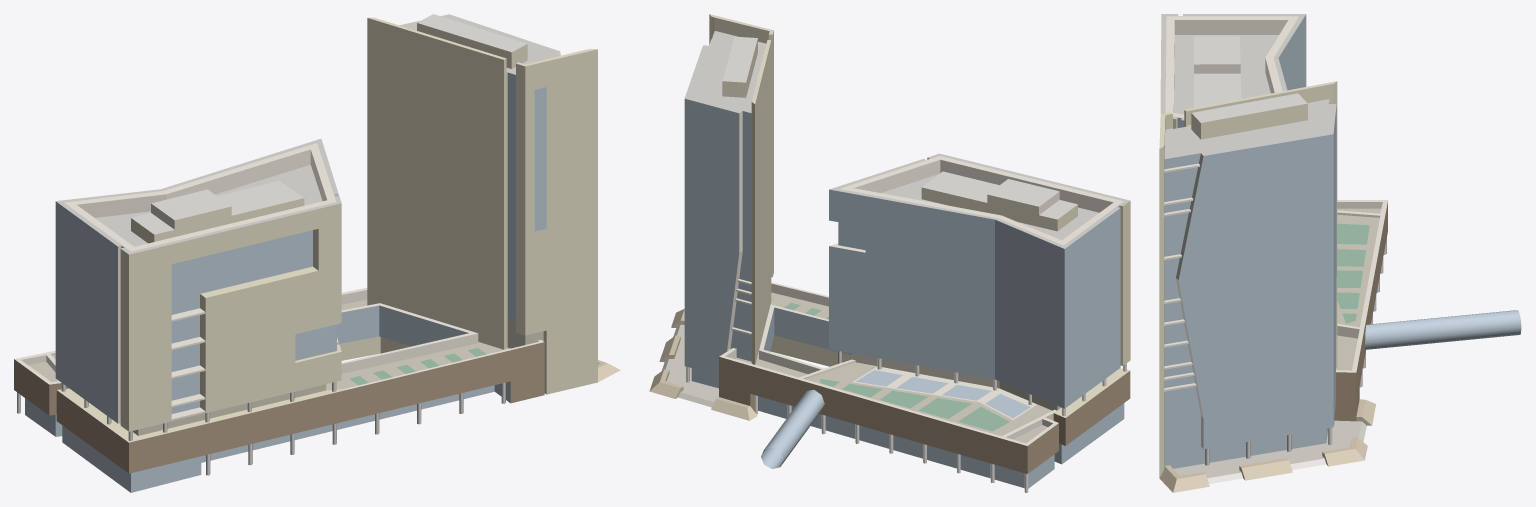
3 views of the same model, side by side, from view 1: azimuth 30°, elevation 25°; view 2: azimuth 150°, elevation 25°; view 3: azimuth 270°, elevation 25° (orthographic). The views are drawn at different scales.
Parts seen in each view (by area): view 1: 70030076201858757lod; view 2: 70030076201858757lod; view 3: 70030076201858757lod.
Boxes of the visible parts, left/top/right/bottom form: 70030076201858757lod: left=14, top=14, right=620, bottom=492; 70030076201858757lod: left=649, top=14, right=1130, bottom=492; 70030076201858757lod: left=1159, top=14, right=1521, bottom=492.
Bounding box in the file's own units: 118 × 75.8 × 74.97.
Materials: 1 (1 with a texture image).
